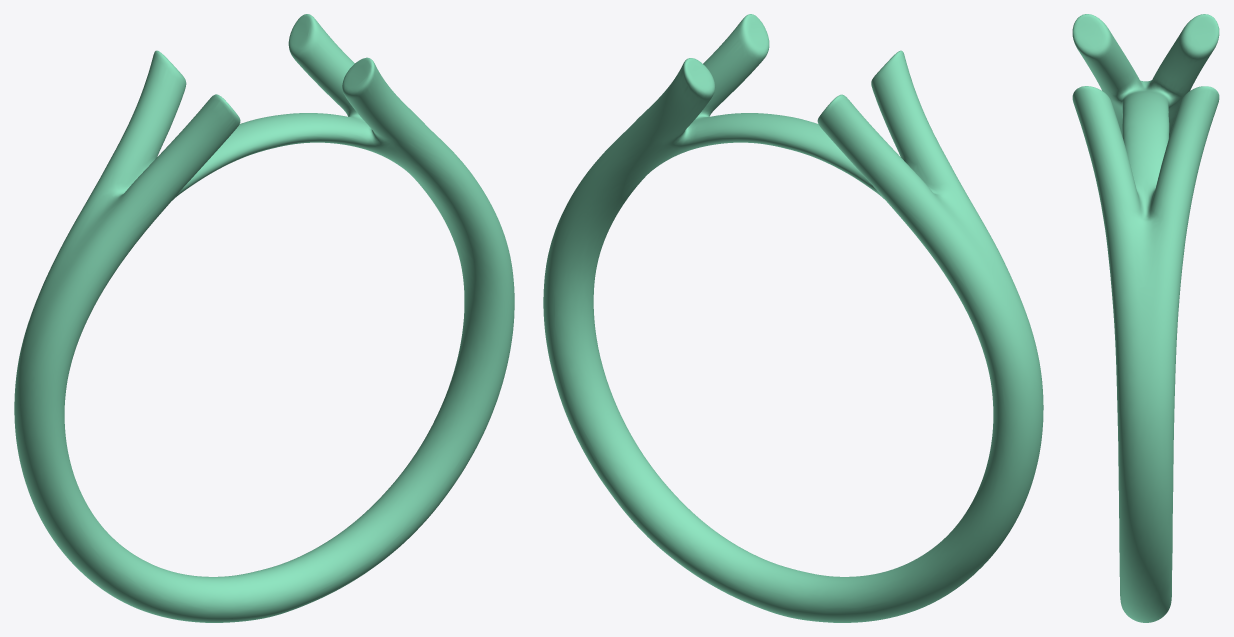
3 renders of one model, left to right at view 1: azimuth 30°, elevation 25°; view 2: azimuth 150°, elevation 25°; view 3: azimuth 270°, elevation 25°, orthographic. The views are drawn at different scales.
Visible parts, largest first — view 1: Metal02; view 2: Metal02; view 3: Metal02.
Part boxes in pixels (box(x1,y1,x2,y2)): Metal02: box(14, 14, 514, 622); Metal02: box(543, 14, 1043, 622); Metal02: box(1072, 14, 1219, 622).
Size of the model in its own units: 20.88 by 22.74 by 5.53.
